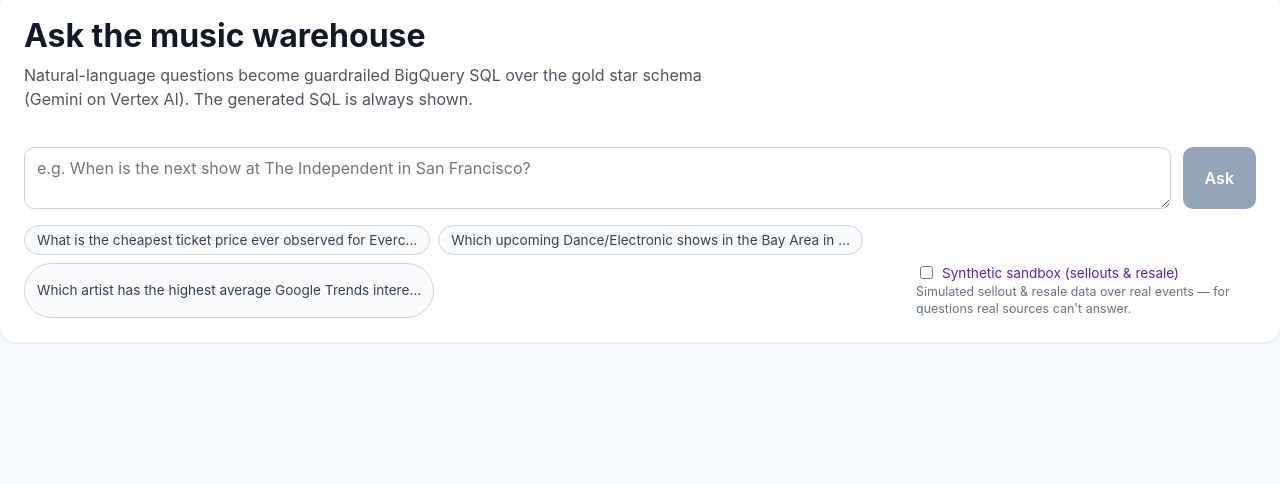
Test: AskPanel › shows the collection caption and keeps the thanks state on a failed POST
The image size is (1280, 484).
Type "Write me a fibonacci function" into the text box named "Question". click: x=597, y=178
box: left=24, top=147, right=1171, bottom=209
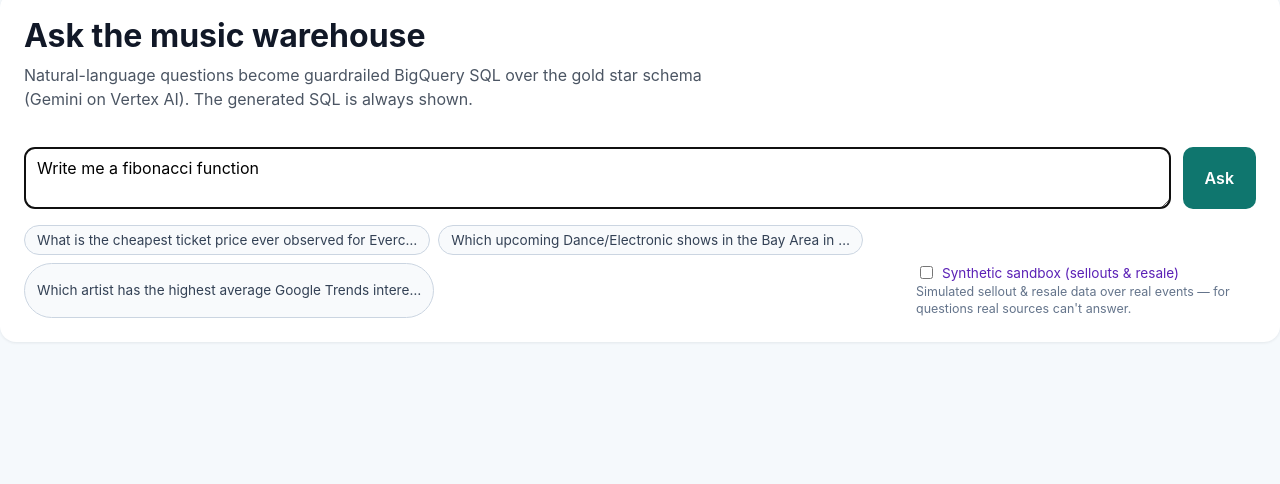
Click the button "Ask". click: x=1219, y=178
box: left=1183, top=147, right=1256, bottom=209
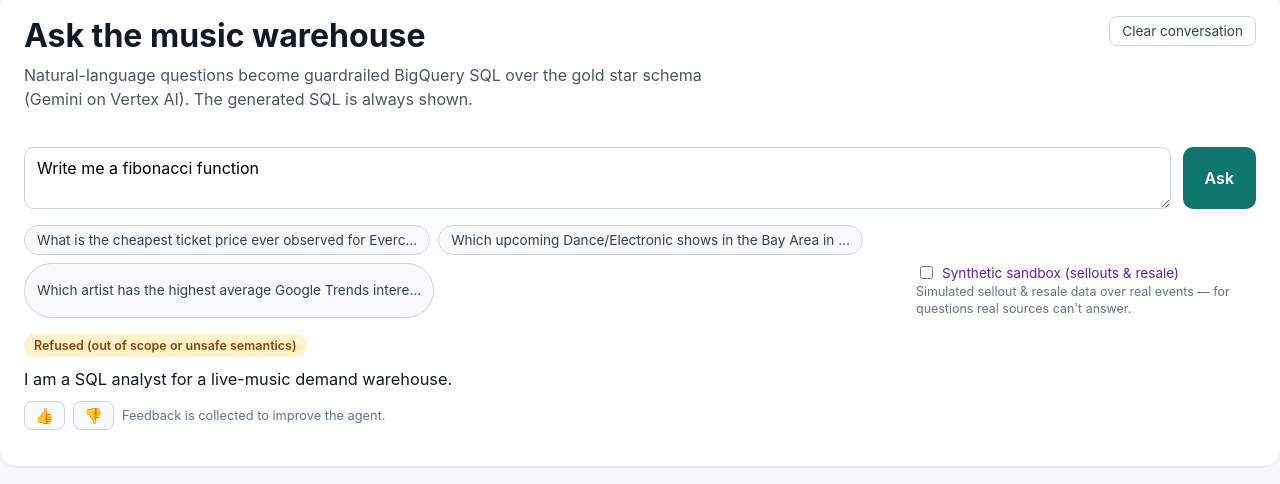
expect the text "Feedback is collected to improve the agent." is shown: met, box left=122, top=408, right=385, bottom=423
Click the button named "Thumbs down". click: x=94, y=415
box: left=73, top=401, right=114, bottom=430
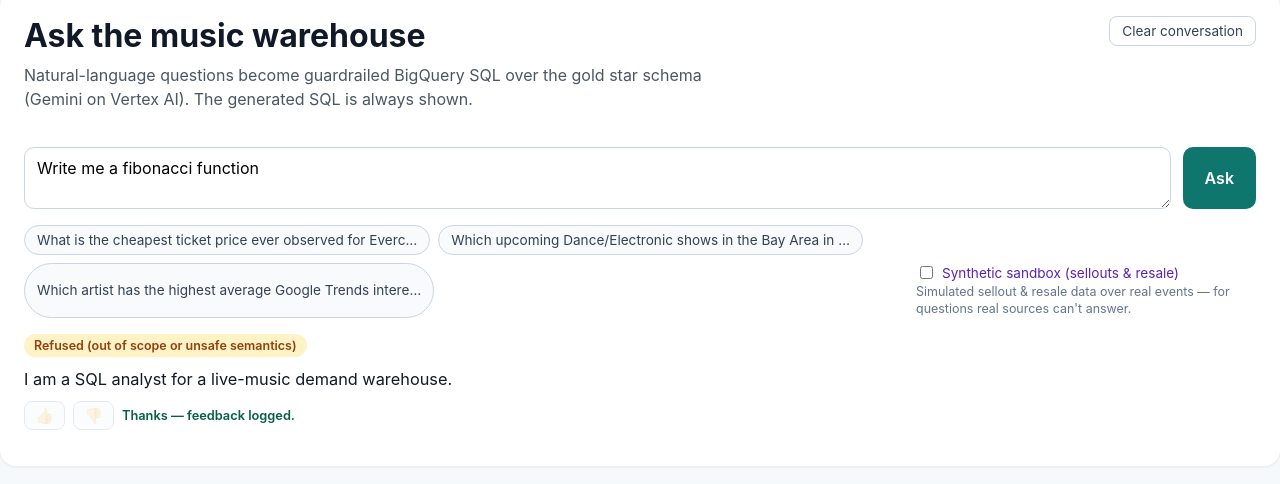
expect the text "Thanks — feedback logged." is shown: met, box left=122, top=408, right=295, bottom=423
